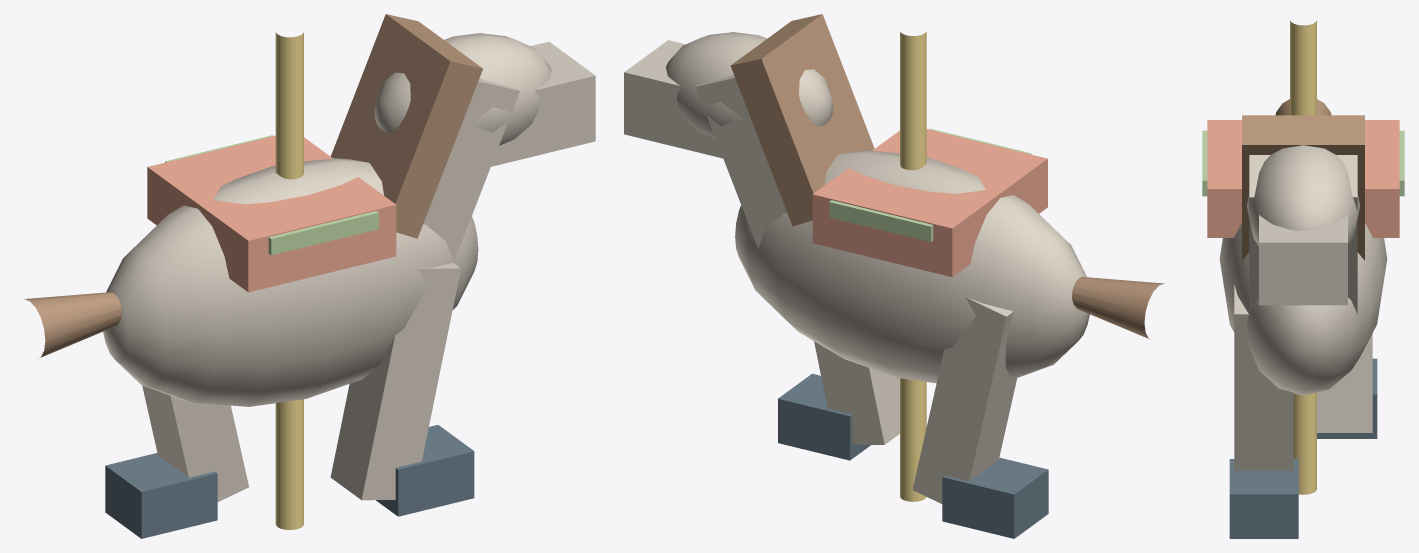
File: park-carousel-horse-pixel-16bit-3d.glb
3 views of the same model, side by side, from view 1: azimuth 30°, elevation 25°; view 2: azimuth 150°, elevation 25°; view 3: azimuth 270°, elevation 25° (orthographic). The views are drawn at different scales.
Visible parts, largest first — view 1: body, saddle, mane, leg-front, pole, hoof-back, head, leg-back, neck, muzzle, hoof-front, tail (+1 smaller); view 2: body, saddle, mane, leg-back, hoof-back, pole, head, neck, muzzle, leg-front, hoof-front, tail (+1 smaller); view 3: body, saddle, head, muzzle, leg-front, mane, hoof-front, pole, leg-back, neck, hoof-back, saddle-trim (+1 smaller).
Part boxes in pixels (left/top/right/bottom): body: left=103, top=158, right=478, bottom=406; saddle: left=147, top=136, right=396, bottom=292; mane: left=330, top=14, right=482, bottom=238; leg-front: left=330, top=263, right=460, bottom=500; pole: left=275, top=32, right=303, bottom=529; hoof-back: left=105, top=453, right=217, bottom=538; head: left=374, top=33, right=551, bottom=145; leg-back: left=142, top=385, right=248, bottom=501; neck: left=423, top=78, right=519, bottom=262; muzzle: left=491, top=41, right=595, bottom=166; hoof-front: left=376, top=425, right=474, bottom=516; tail: left=24, top=292, right=121, bottom=357; body: left=735, top=150, right=1089, bottom=383; saddle: left=812, top=129, right=1047, bottom=277; mane: left=730, top=14, right=874, bottom=226; leg-back: left=912, top=297, right=1017, bottom=503; hoof-back: left=942, top=457, right=1048, bottom=538; pole: left=900, top=31, right=926, bottom=501; head: left=666, top=32, right=833, bottom=138; neck: left=696, top=75, right=786, bottom=248; muzzle: left=624, top=40, right=722, bottom=158; leg-front: left=814, top=341, right=899, bottom=444; hoof-front: left=778, top=373, right=870, bottom=460; tail: left=1072, top=277, right=1164, bottom=339; body: left=1219, top=223, right=1387, bottom=395; saddle: left=1207, top=120, right=1399, bottom=237; head: left=1247, top=145, right=1359, bottom=245; muzzle: left=1259, top=214, right=1347, bottom=305; leg-front: left=1234, top=285, right=1293, bottom=470; mane: left=1242, top=115, right=1364, bottom=260; hoof-front: left=1229, top=459, right=1298, bottom=538; pole: left=1290, top=20, right=1316, bottom=494; leg-back: left=1317, top=333, right=1372, bottom=432; neck: left=1249, top=155, right=1357, bottom=313; hoof-back: left=1317, top=358, right=1377, bottom=438; saddle-trim: left=1202, top=130, right=1404, bottom=196.
Bounding box in the file's own units: 2.42 × 2.1 × 0.82.
